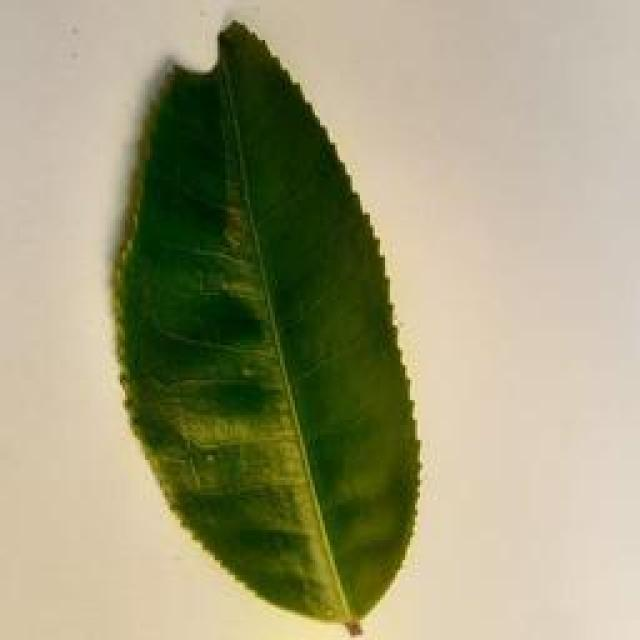Healthy: (101, 16, 429, 637)
